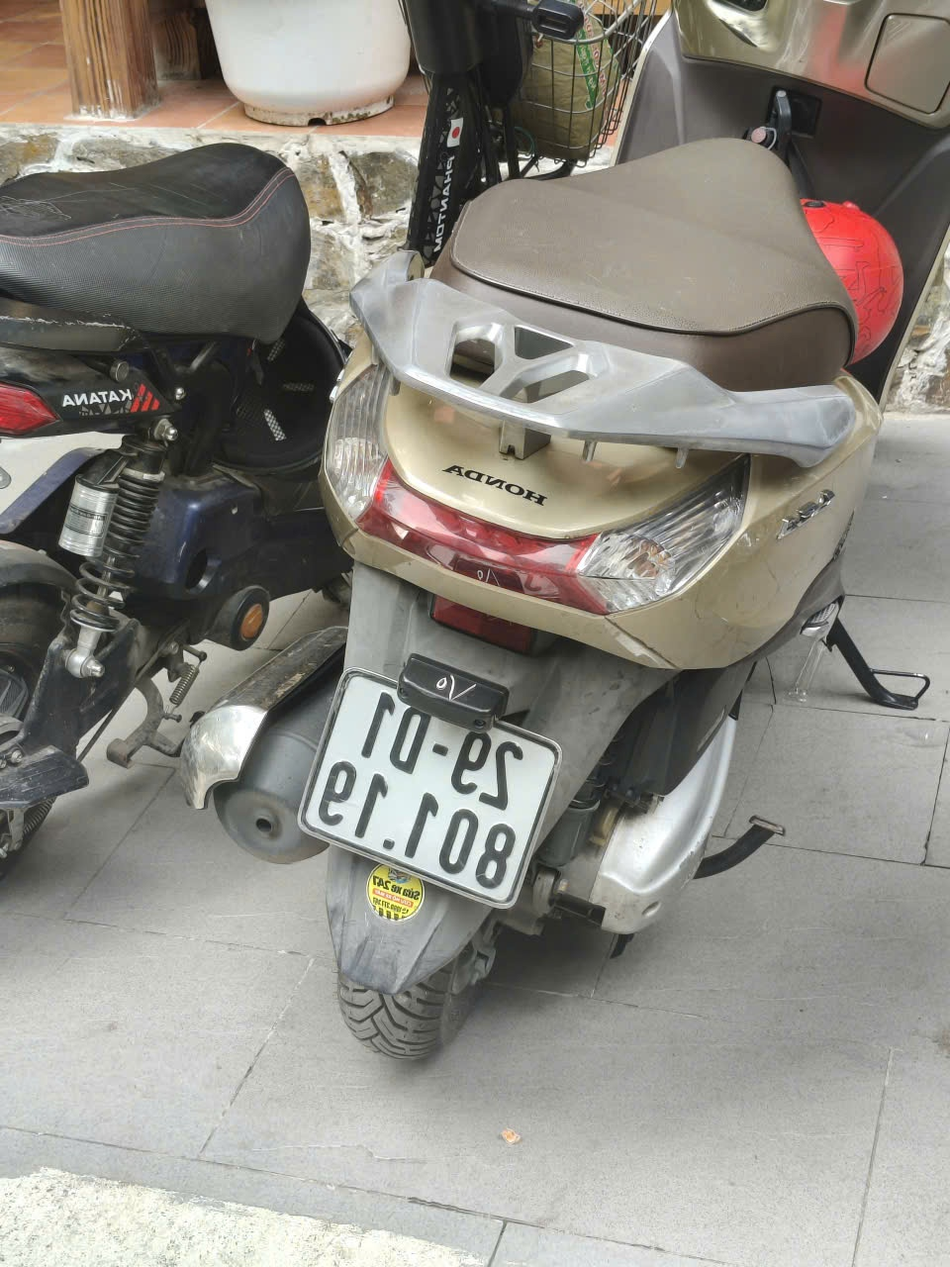plate: (56, 379, 167, 421)
